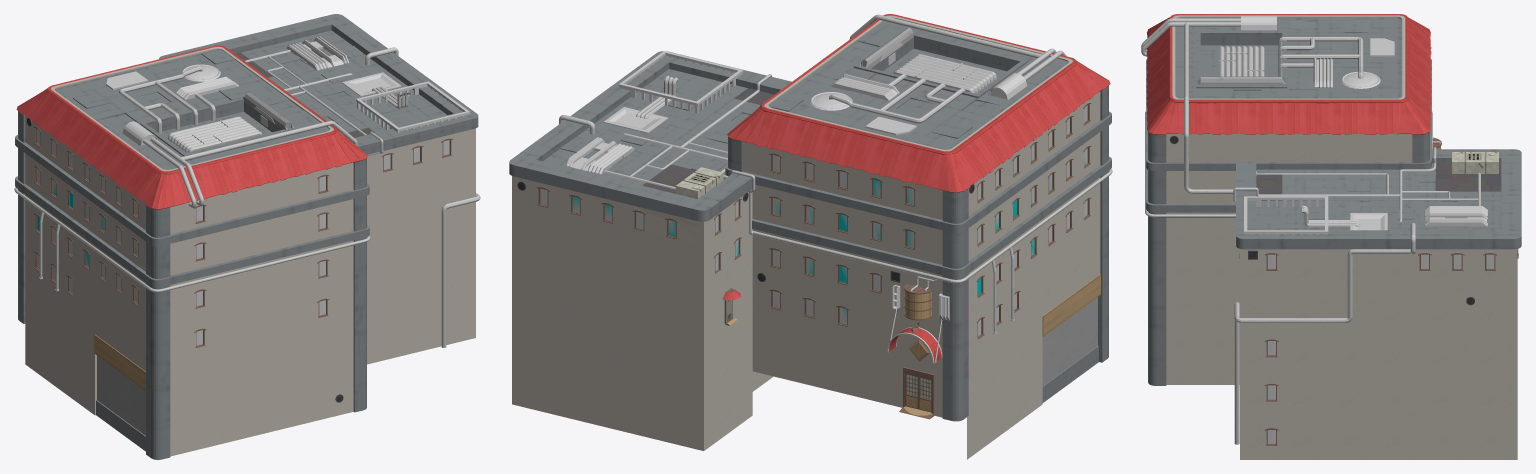
Rendered from SM_ENV_KNVLLG_AreaE_Building_A_B.fbx.
The picture shows the model from 3 angles, left to right: view 1: azimuth 30°, elevation 25°; view 2: azimuth 150°, elevation 25°; view 3: azimuth 270°, elevation 25°; orthographic projection. The views are drawn at different scales.
Parts seen in each view (by area): view 1: SM_ENV_KNVLLG_AreaE_Building_A_B.mo; view 2: SM_ENV_KNVLLG_AreaE_Building_A_B.mo; view 3: SM_ENV_KNVLLG_AreaE_Building_A_B.mo.
Boxes of the visible parts, <box> form: SM_ENV_KNVLLG_AreaE_Building_A_B.mo: <box>14,14,480,459</box>; SM_ENV_KNVLLG_AreaE_Building_A_B.mo: <box>509,14,1112,459</box>; SM_ENV_KNVLLG_AreaE_Building_A_B.mo: <box>1141,14,1521,459</box>.
Size of the model in its own units: 11029 by 7838 by 9516.
